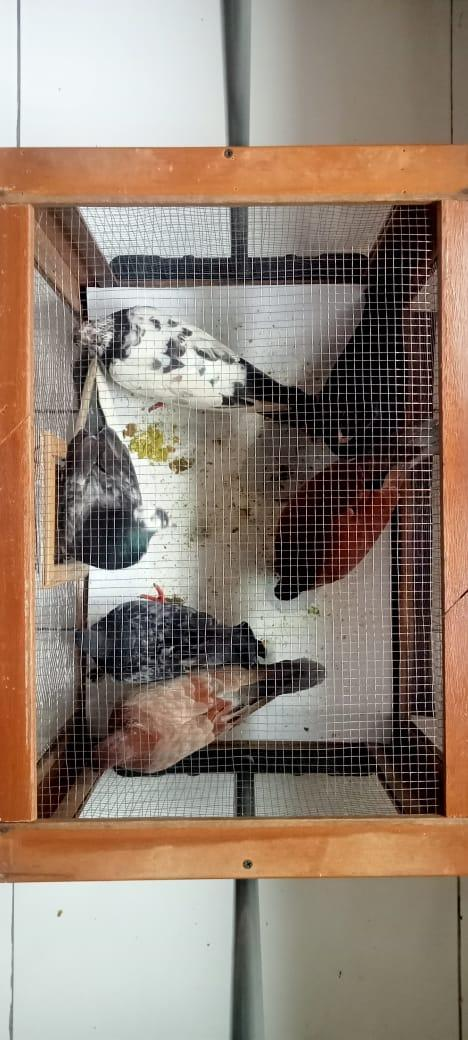Merpati: (69, 306, 317, 434), (276, 420, 443, 599), (89, 659, 327, 775), (55, 357, 158, 571), (76, 602, 270, 687), (316, 287, 408, 454)
